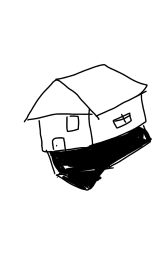closed_window: (111, 110, 135, 129)
door: (51, 135, 68, 154)
open_window: (61, 113, 86, 133)
roof: (18, 62, 151, 119)
shadow: (36, 132, 157, 192)
wall: (35, 107, 94, 154)
